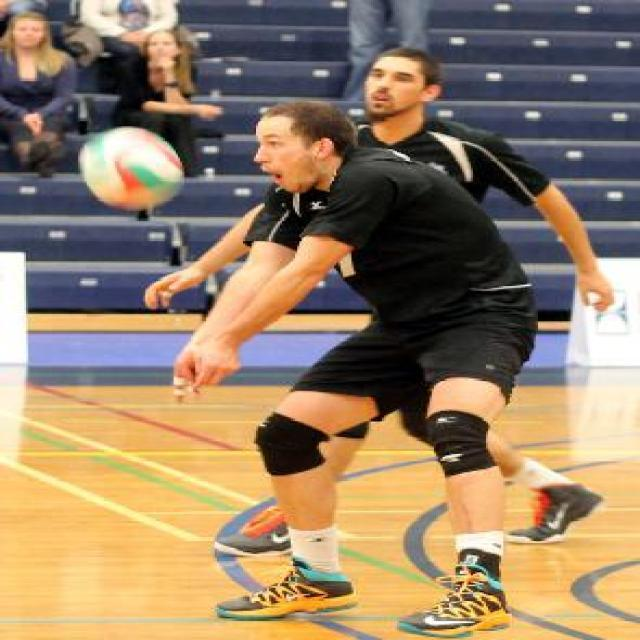volleyball: (78, 127, 183, 210)
